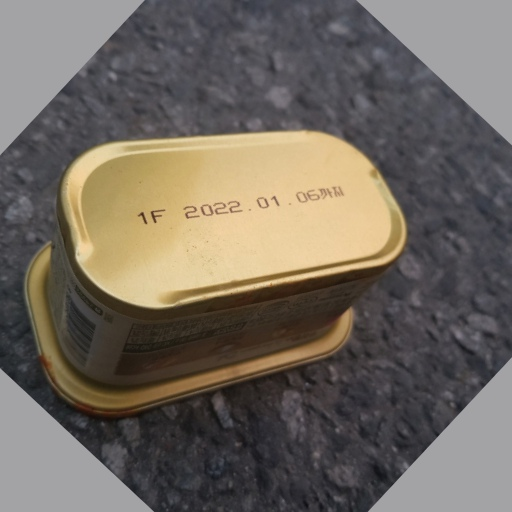Metal_2: (20, 128, 410, 418)
